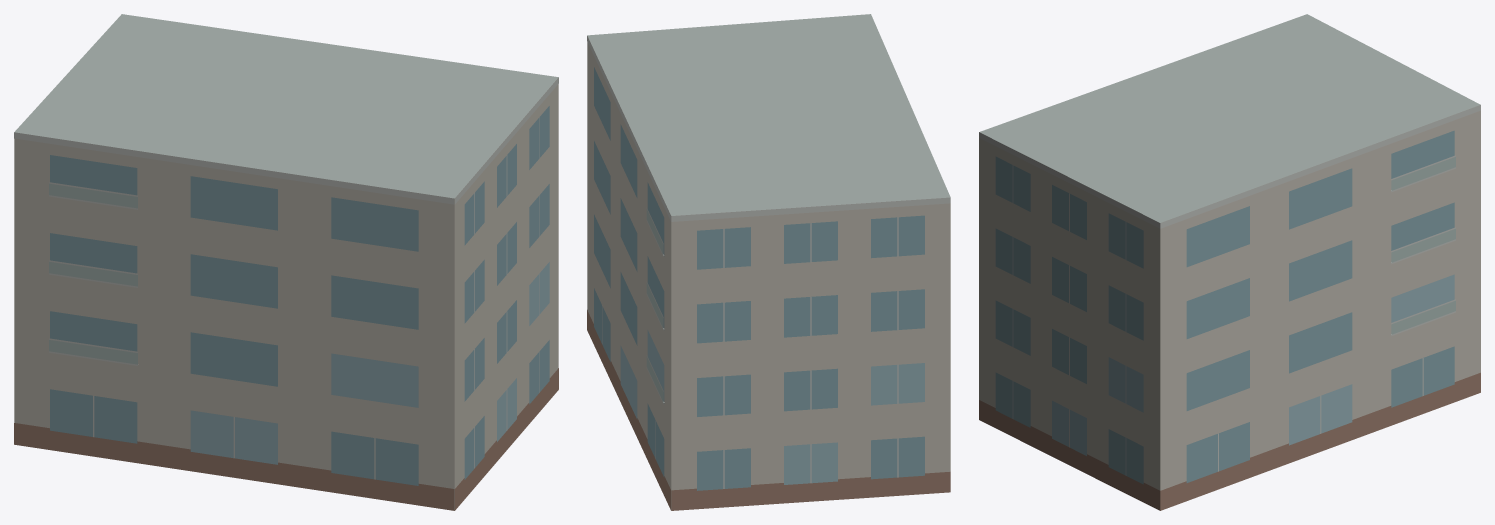
Rendered from survey-upis-32768459.glb.
3 renders of one model, left to right at view 1: azimuth 30°, elevation 25°; view 2: azimuth 150°, elevation 25°; view 3: azimuth 270°, elevation 25°, orthographic. The views are drawn at different scales.
Parts seen in each view (by area): view 1: survey-upis-32768459.tmp; view 2: survey-upis-32768459.tmp; view 3: survey-upis-32768459.tmp.
Part boxes in pixels (box(x1,y1,x2,y2)): survey-upis-32768459.tmp: box(14, 14, 558, 510); survey-upis-32768459.tmp: box(587, 14, 950, 510); survey-upis-32768459.tmp: box(979, 14, 1480, 510).
Bounding box in the file's own units: 19.01 × 12.2 × 19.28.
